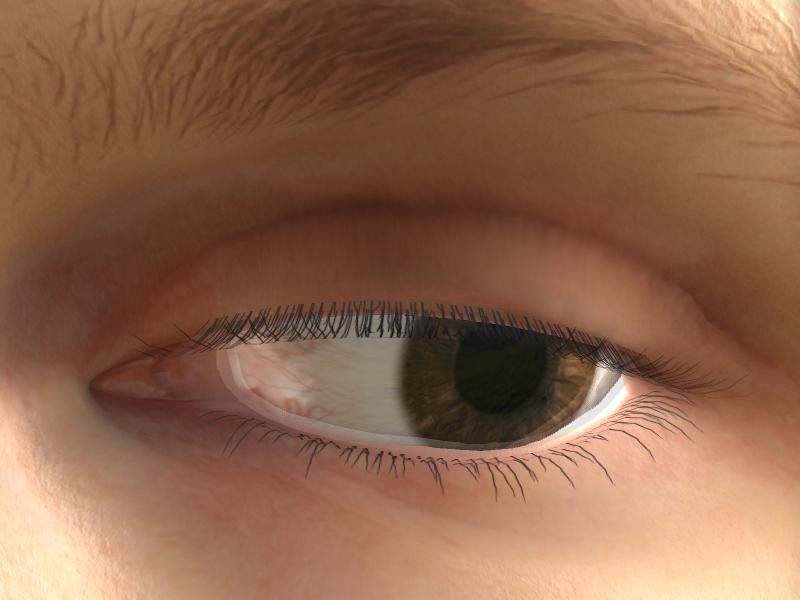eye: (398, 315, 594, 447)
